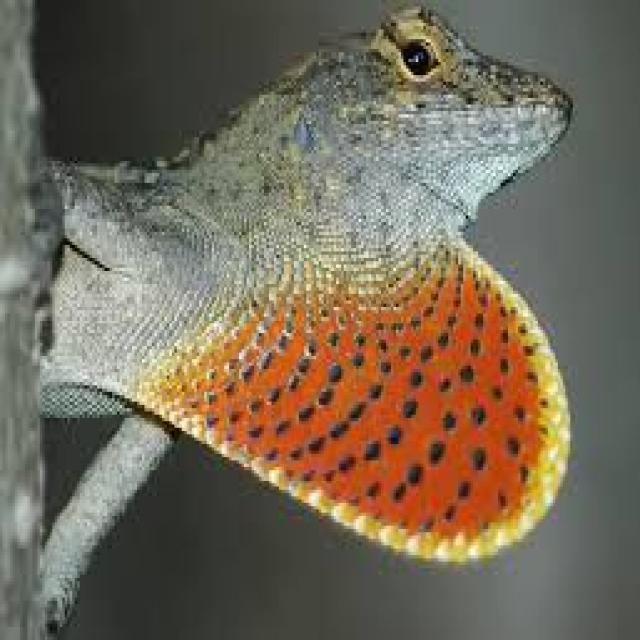Lizard: (0, 13, 584, 593)
